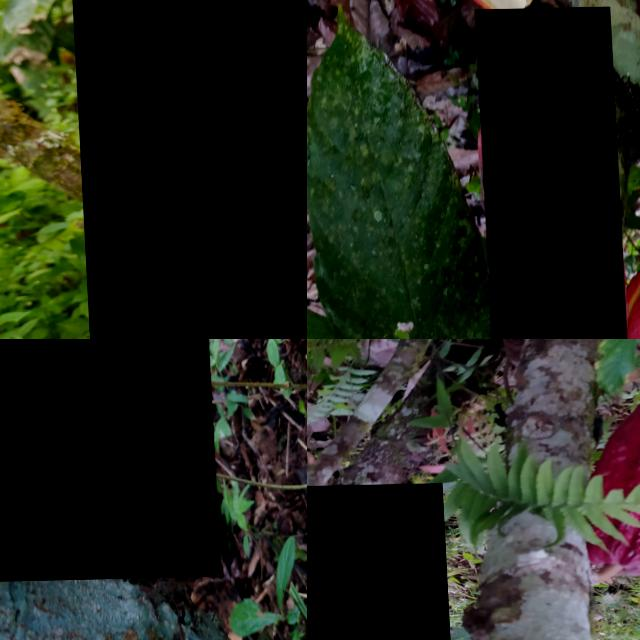Monilia: (0, 339, 215, 583), (474, 8, 626, 339), (575, 369, 640, 579)
Sana: (66, 0, 307, 339), (307, 484, 453, 640)
